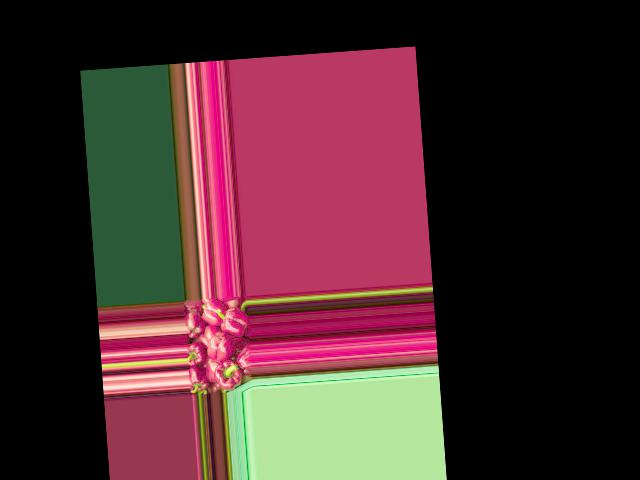bell_pepper: (188, 366, 208, 393)
